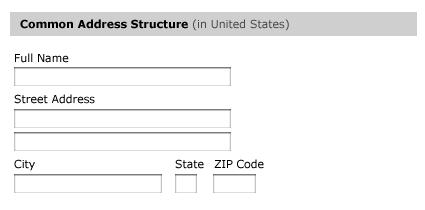textbox: (210, 170, 270, 198), (170, 170, 204, 197)
